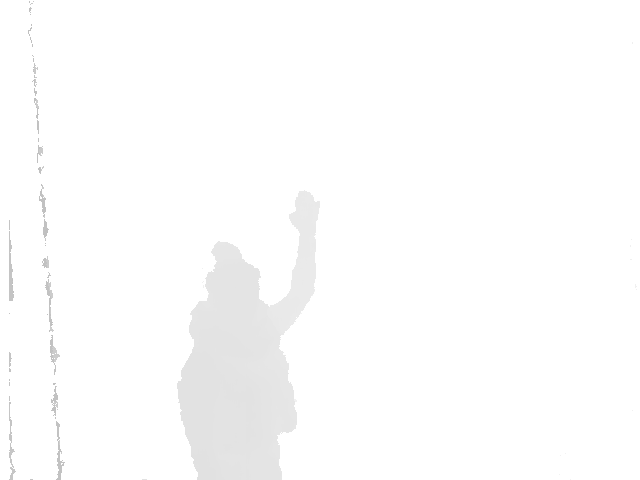hand: (289, 190, 319, 229)
head: (204, 241, 263, 313)
person: (175, 190, 321, 480)
